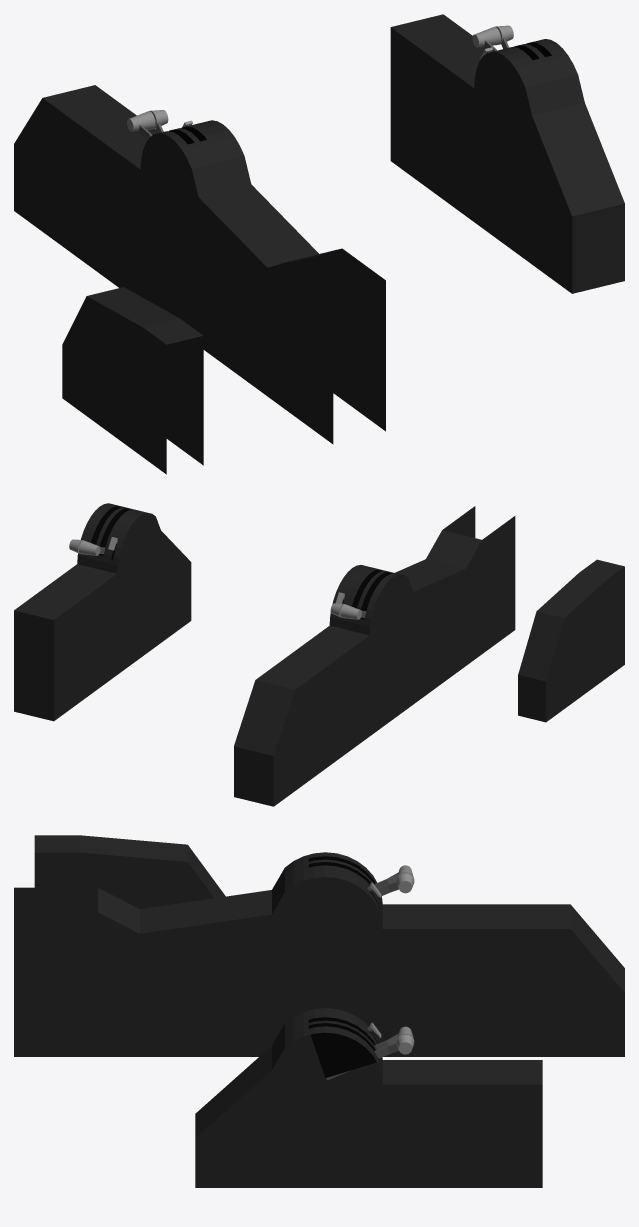
Rendered from pedestal.obj.
3 renders of one model, top to bottom at view 1: azimuth 30°, elevation 25°; view 2: azimuth 150°, elevation 25°; view 3: azimuth 270°, elevation 25°, orthographic. The views are drawn at different scales.
Parts seen in each view (by area): view 1: pedestal, levelerthrottleR; view 2: pedestal, fentes, levelerthrottleR; view 3: pedestal, fentes, levelerthrottleL, levelerthrottleR.
Boxes of the visible parts, x1,y1,x2,y2 form: pedestal: (14, 14, 624, 474); levelerthrottleR: (127, 26, 500, 139); pedestal: (14, 503, 624, 806); fentes: (91, 506, 391, 619); levelerthrottleR: (79, 540, 366, 619); pedestal: (14, 835, 624, 1187); fentes: (308, 856, 380, 1078); levelerthrottleL: (326, 873, 414, 1080); levelerthrottleR: (374, 865, 414, 1049).
Size of the model in its own units: 1 by 0.333 by 1.02.
Materials: 1 (1 with a texture image).
